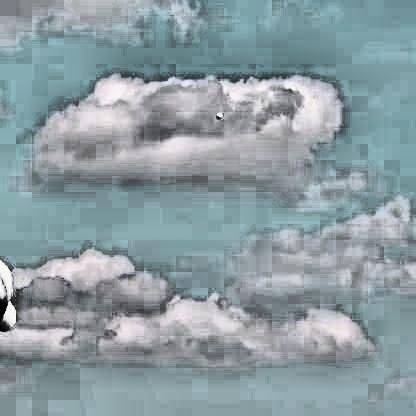golfball: (215, 111, 223, 121)
